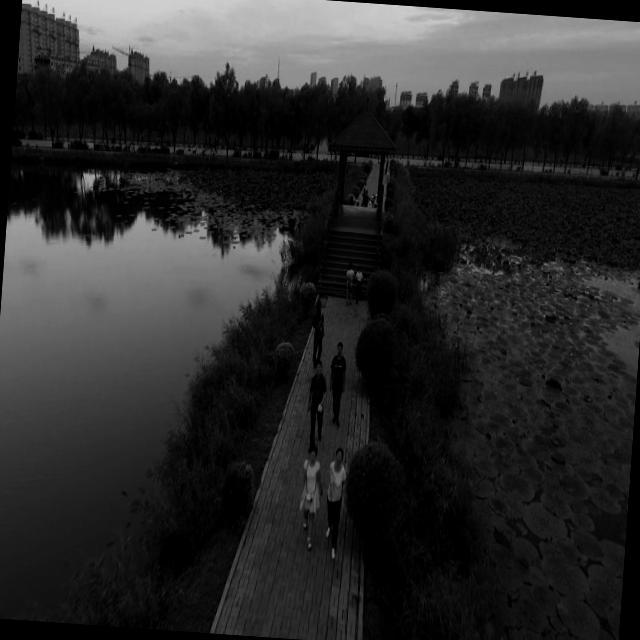person: (293, 443, 325, 550), (320, 446, 350, 560), (304, 358, 330, 451), (325, 338, 351, 428), (308, 299, 328, 372), (342, 260, 356, 305), (352, 262, 365, 304)
